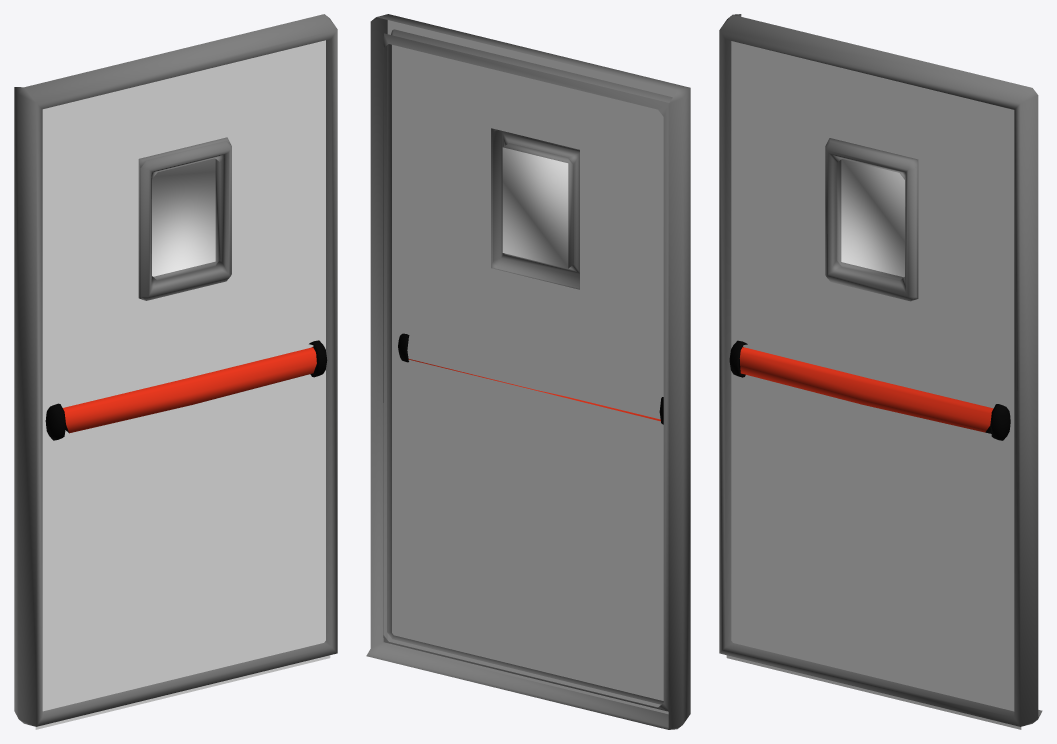
The model's file is EmergencyDoor_Clean.fbx.
3 renders of one model, left to right at view 1: azimuth 30°, elevation 25°; view 2: azimuth 150°, elevation 25°; view 3: azimuth 330°, elevation 25°, orthographic.
Visible parts, largest first — view 1: EmergencyDoor_Clean; view 2: EmergencyDoor_Clean; view 3: EmergencyDoor_Clean.
Boxes of the visible parts, x1=… form: EmergencyDoor_Clean: x1=14, y1=14, x2=337, y2=729; EmergencyDoor_Clean: x1=366, y1=14, x2=690, y2=729; EmergencyDoor_Clean: x1=719, y1=14, x2=1042, y2=729.
Size of the model in its own units: 129 by 252 by 20.11.
